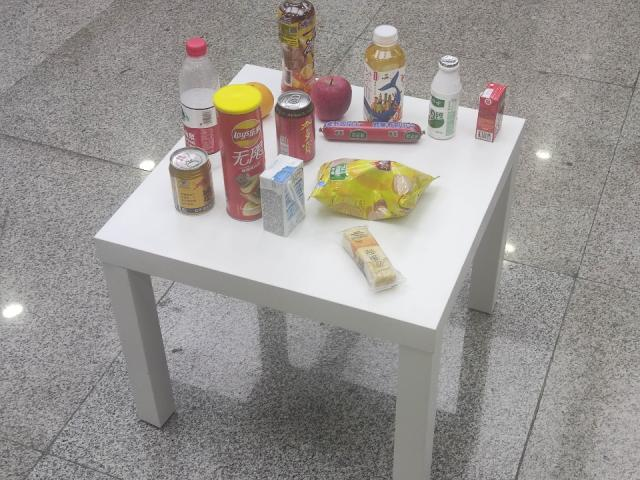Canned_drinks: (168, 147, 218, 215), (274, 91, 320, 161)
bottle: (164, 32, 226, 158)
cylinder: (210, 82, 266, 224)
drink_box: (256, 144, 310, 244), (469, 76, 513, 150)
